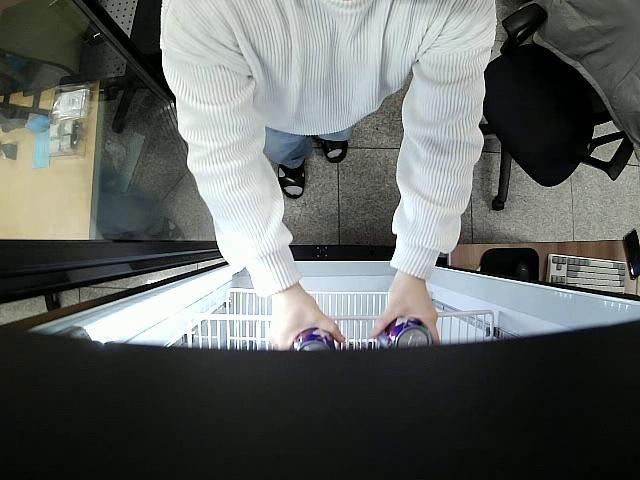14_welchsGrape: (378, 314, 435, 347), (294, 327, 339, 354)
